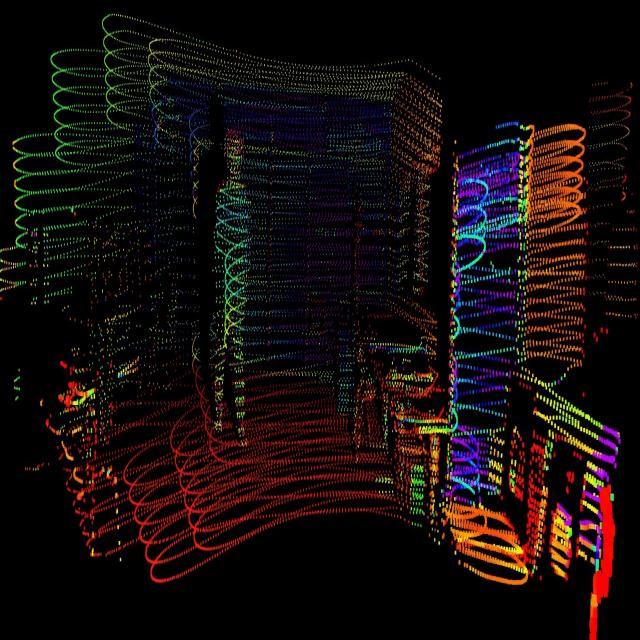human: (207, 119, 254, 458)
